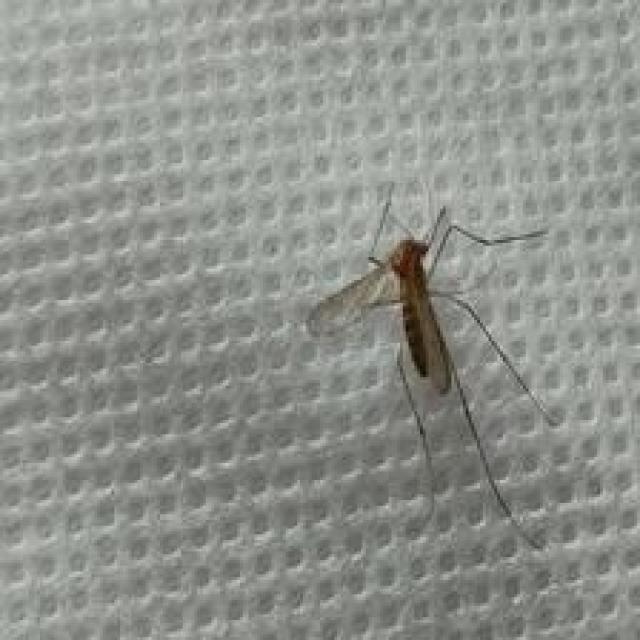Culex: (304, 180, 564, 551)
